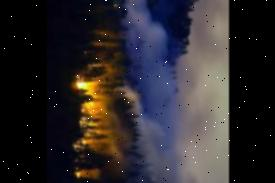fire: (68, 61, 112, 183)
